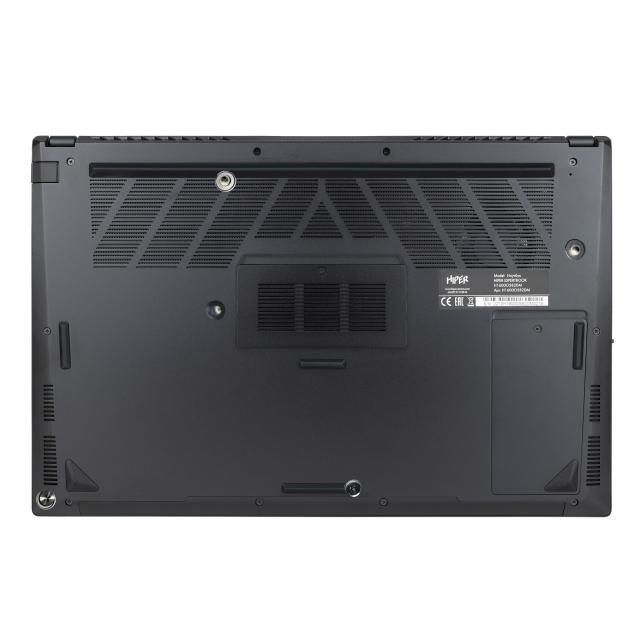lock: (343, 479, 363, 498), (36, 490, 56, 509)
missing_screw: (564, 238, 586, 260), (215, 171, 236, 192), (205, 300, 225, 320)
